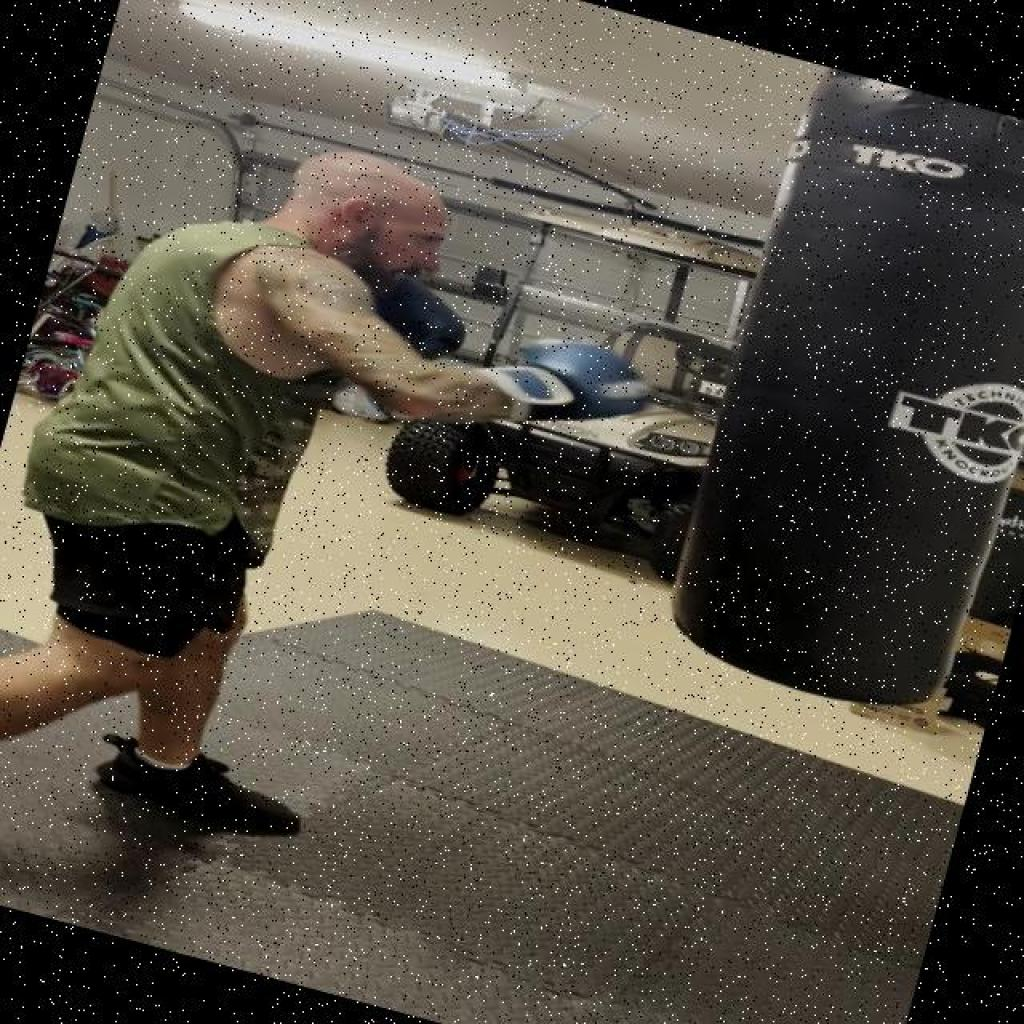bag: (651, 62, 1024, 748)
cross: (40, 51, 827, 533)
